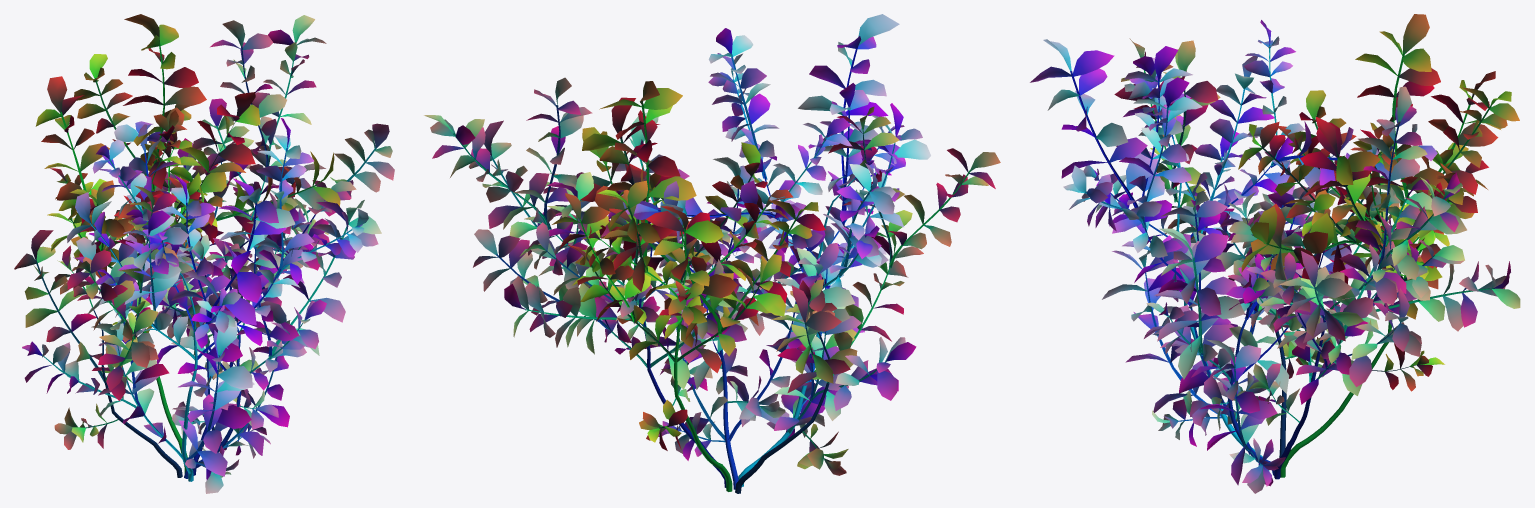
The model's file is wk1ncbxja_VarJ_LOD0.fbx.
3 renders of one model, left to right at view 1: azimuth 30°, elevation 25°; view 2: azimuth 150°, elevation 25°; view 3: azimuth 270°, elevation 25°, orthographic. The views are drawn at different scales.
Visible parts, largest first — view 1: _ad5g_VarJ_LOD2; view 2: _ad5g_VarJ_LOD2; view 3: _ad5g_VarJ_LOD2.
Boxes of the visible parts, x1,y1,x2,y2 form: _ad5g_VarJ_LOD2: (14, 14, 394, 493); _ad5g_VarJ_LOD2: (424, 14, 1000, 493); _ad5g_VarJ_LOD2: (1030, 14, 1520, 493).
Size of the model in its own units: 158 by 158 by 150.
